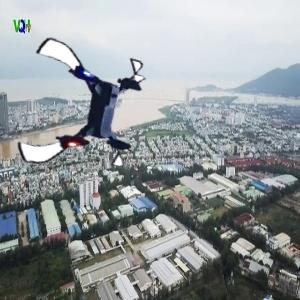drone: (16, 46, 146, 176)
